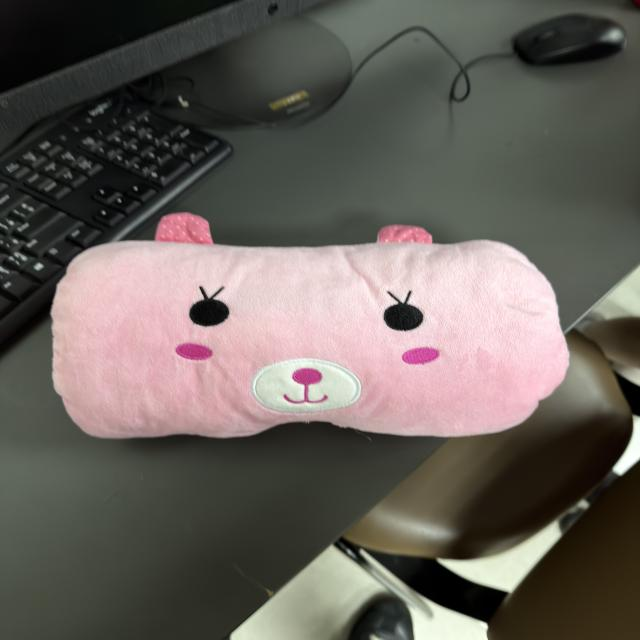pinkpillow: (40, 206, 577, 446)
